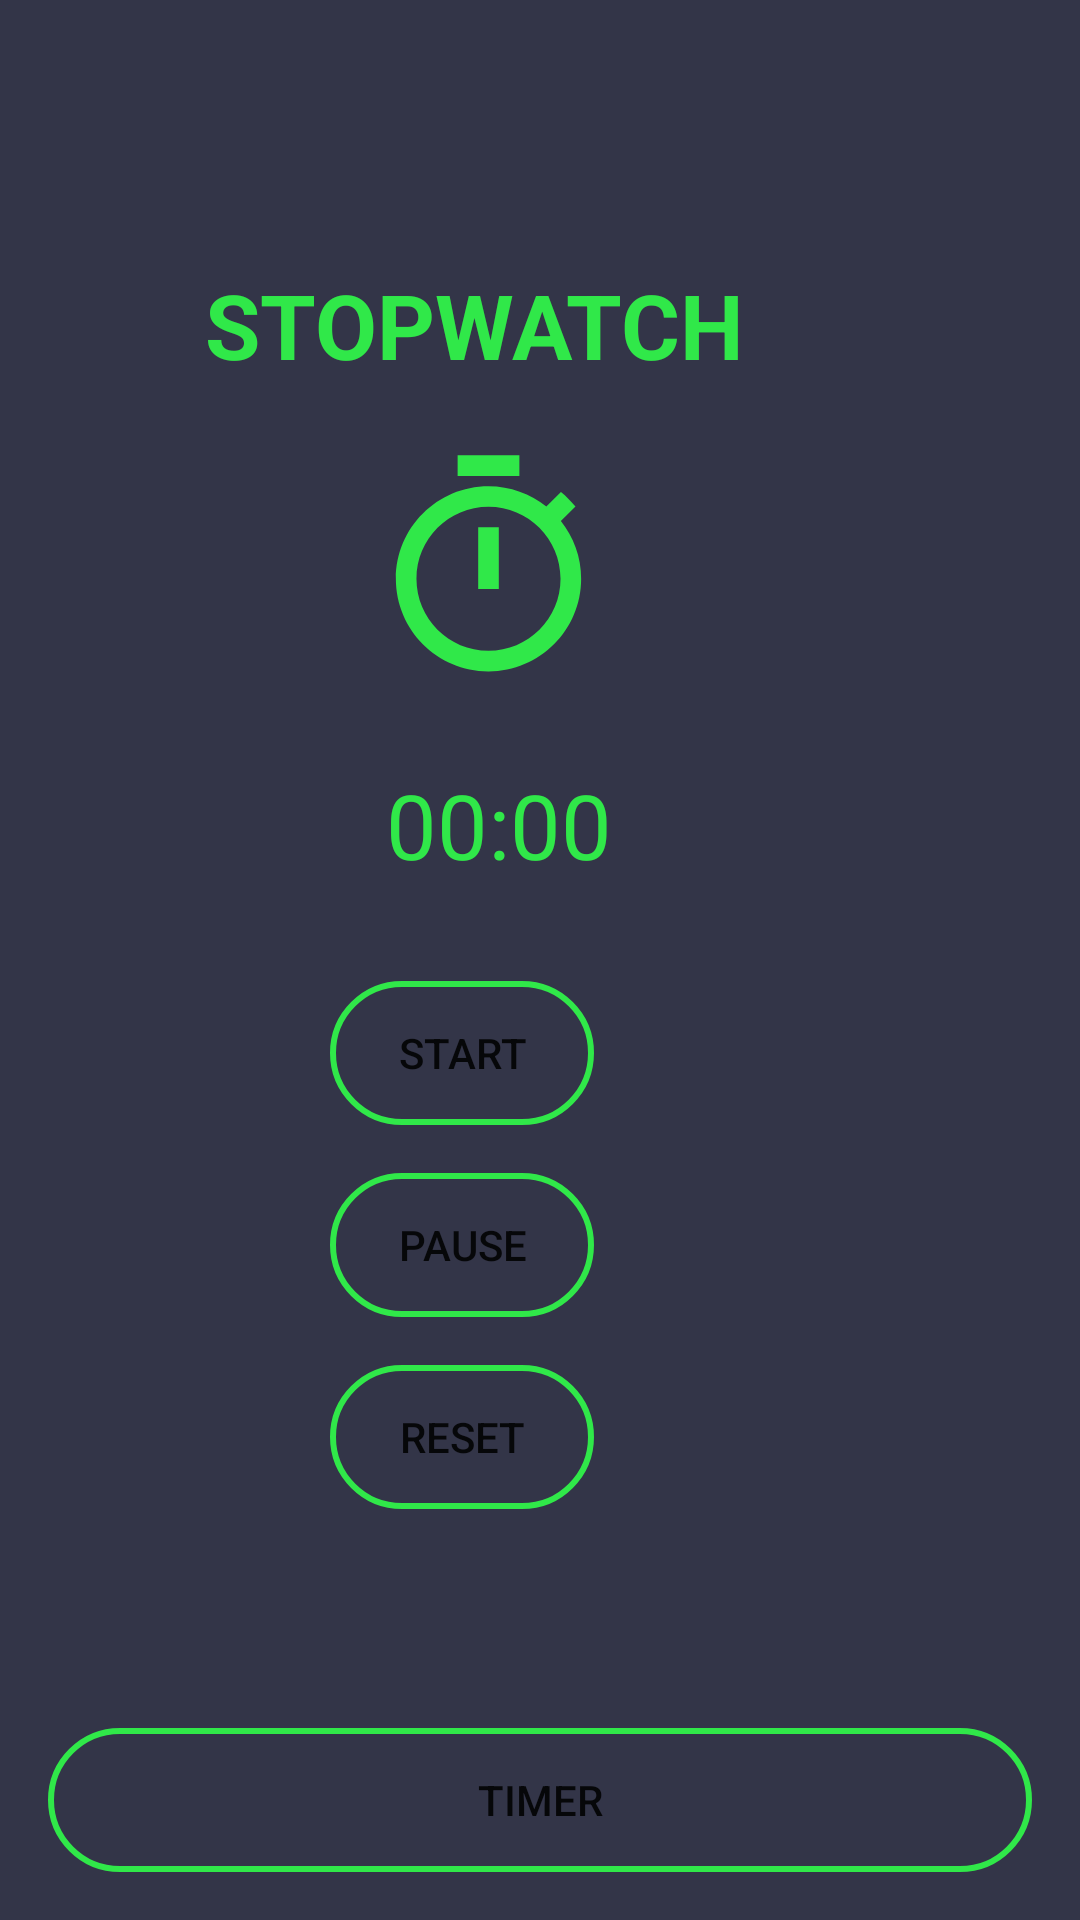

Where icons sit on this 1080px x 1920px app screen, as {"left": x1, "top": y1, "right": x2, "bottom": y2}:
timer: {"left": 395, "top": 455, "right": 581, "bottom": 672}
